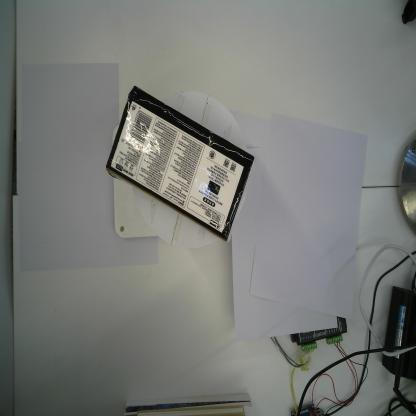Tissue: (104, 83, 255, 244)
